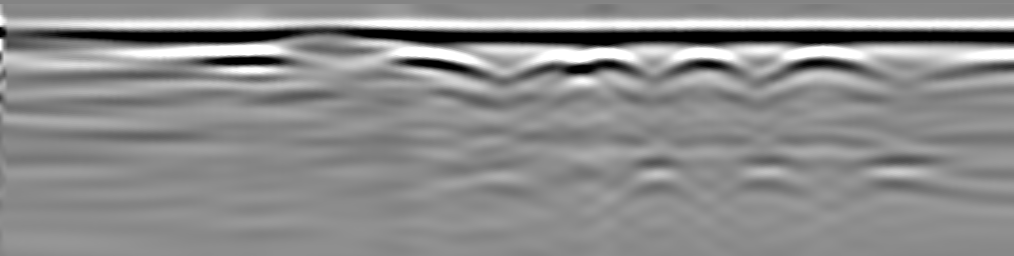pipe: (760, 47, 896, 82), (520, 49, 649, 75), (919, 49, 1014, 83), (657, 49, 752, 79)
steel: (243, 26, 406, 53)
